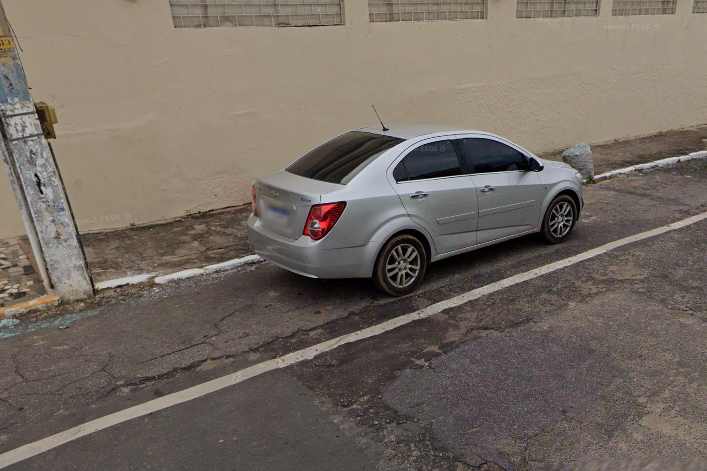car: (242, 100, 591, 300)
